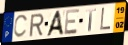A: (45, 9, 66, 37)
C: (13, 14, 29, 39)
E: (64, 8, 81, 36)
L: (99, 7, 112, 32)
R: (29, 13, 45, 38)
T: (86, 8, 97, 33)
